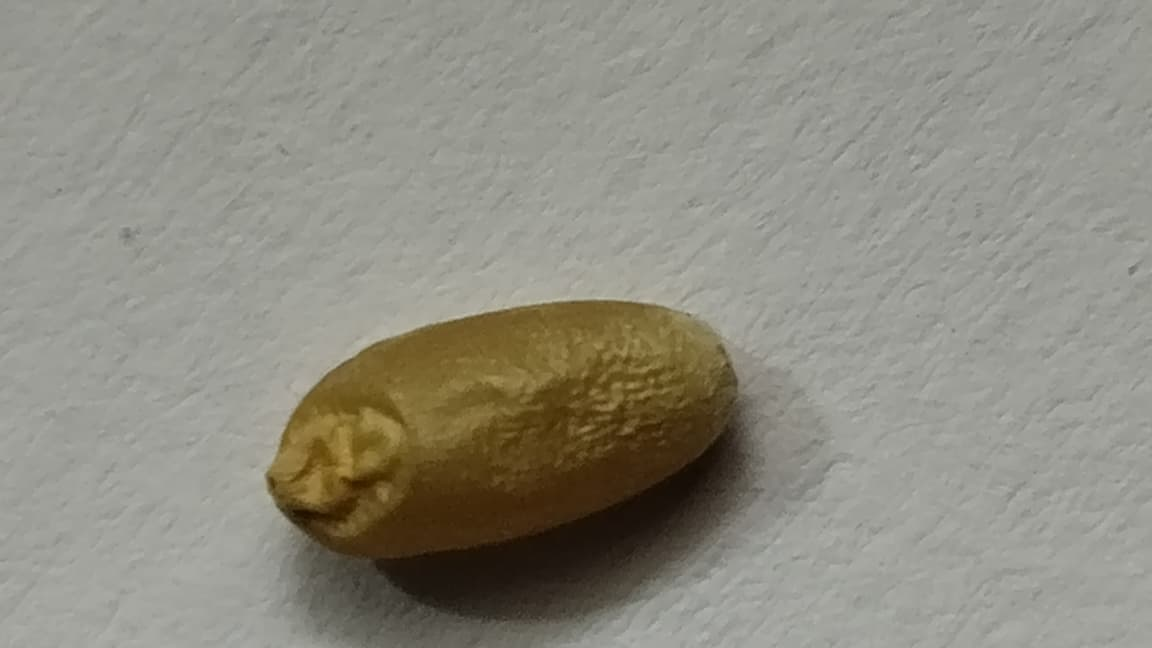healthy: (266, 301, 736, 558)
